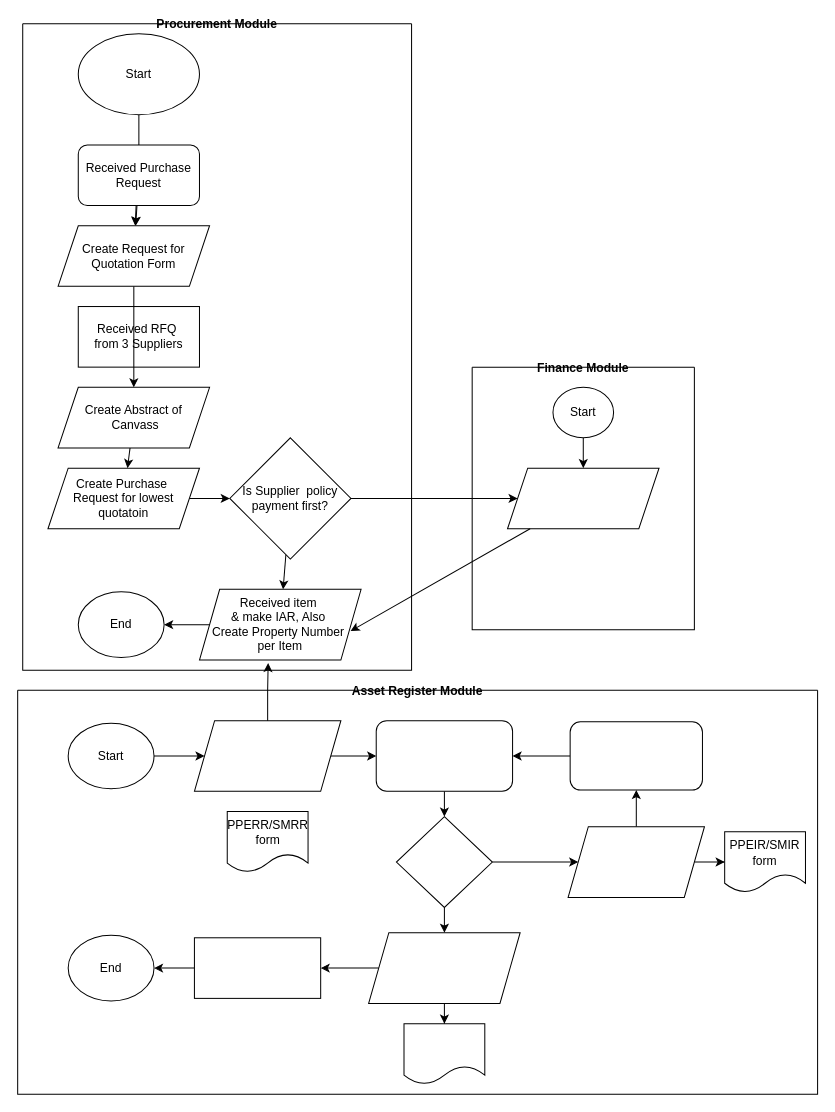
Image size: 835x1112. Some labels were removed from this diagram. Here are the shapes that lost their labels. From the top down, the centre of each, then its label:
At (x=583, y=498): "If Yes, Create BUR and Voucher".
At (x=267, y=755): "Create PPERR for PPE & SMRR for SE(data came from Inspected & accepted items)".
At (x=444, y=755): "Store in the Asset Registry".
At (x=635, y=755): "Update Asset Registry to exclude from Reports from now on".
At (x=443, y=861): "Transfer to other Office?".
At (x=635, y=861): "If yes, Create PPEIR for PPE and SMIR for SE".
At (x=257, y=967): "Issued the item/s to accountable officer.".
At (x=444, y=967): "Create PAR for PPE and ICS for SE".
At (x=444, y=1053): "PAR/ICS form".
